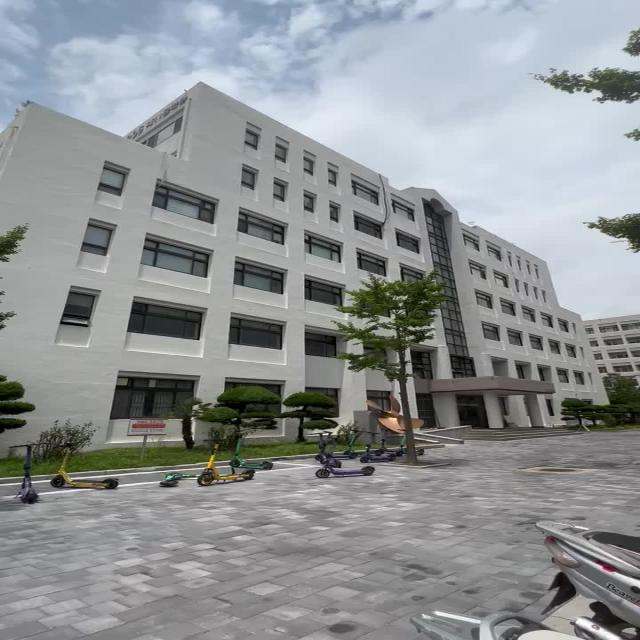building: (18, 93, 617, 432)
